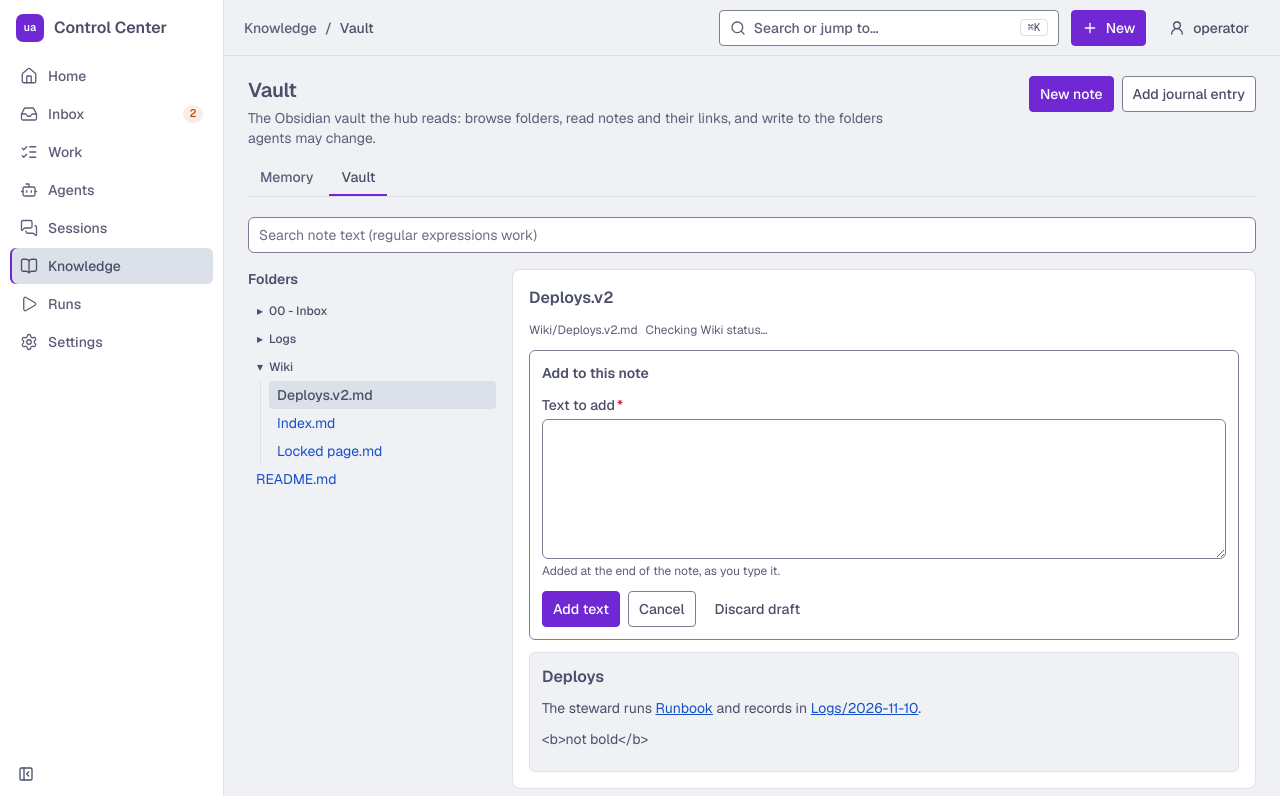
Test: knowledge: vault writes › appends to a note and explains a locked refusal
The width and height of the screenshot is (1280, 796).
In the text box labelled "Text to add*": [884, 489] box [542,419,1226,559], type "- new line"
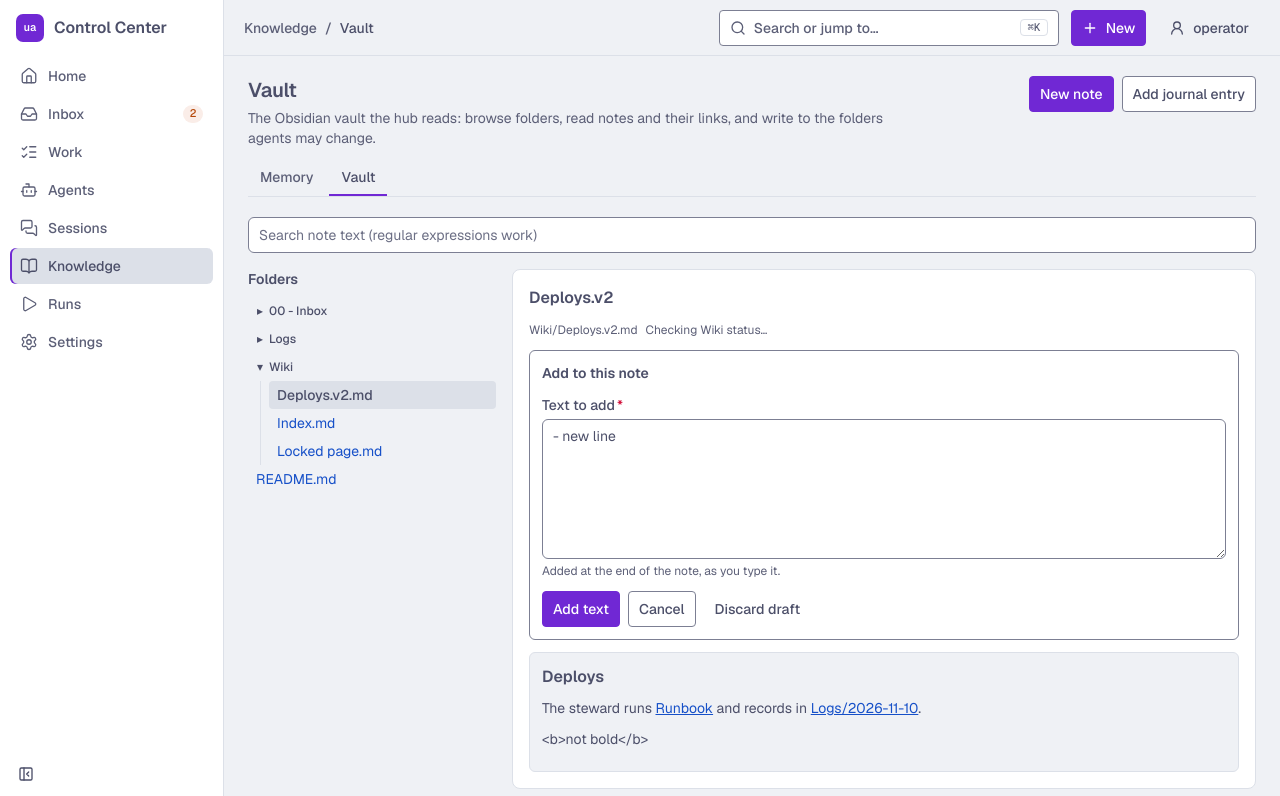
Click the button "Add text": [581, 609] box [542,591,620,627]
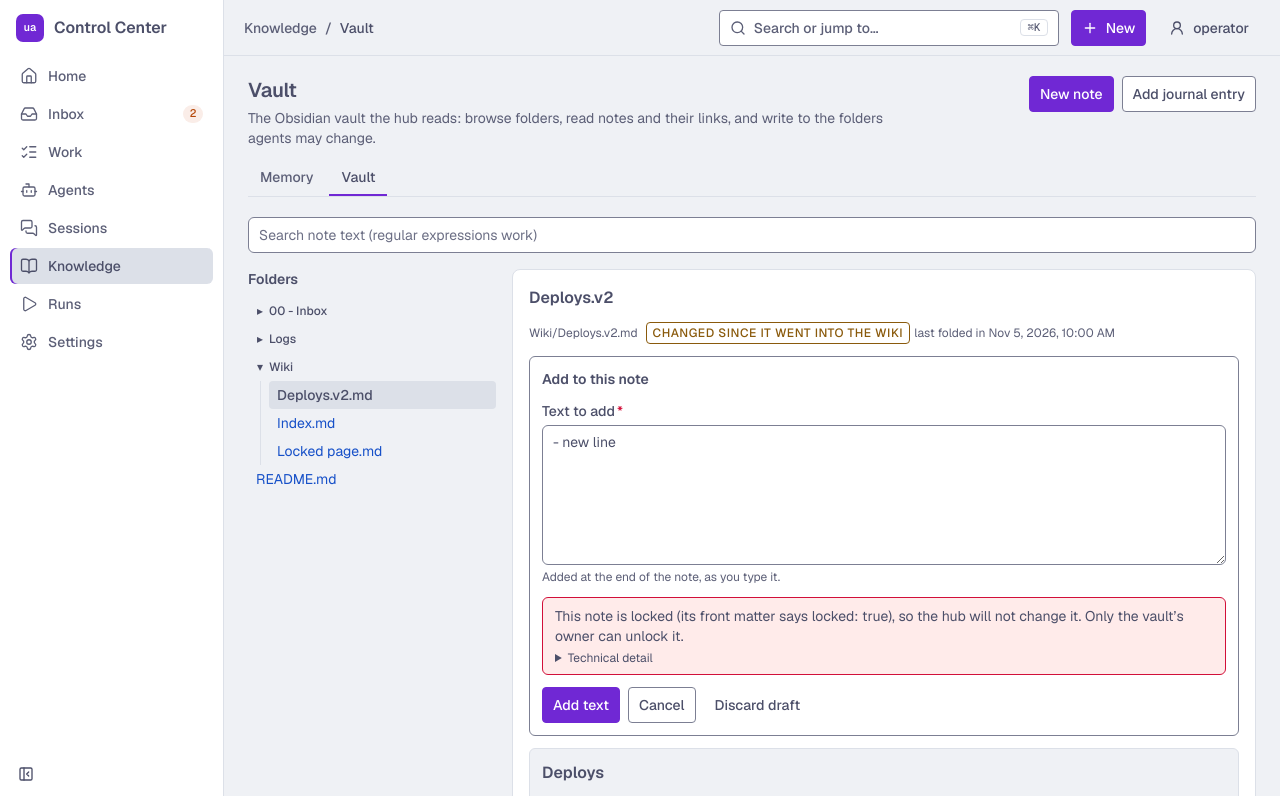
Check: the message shows "This note is locked", box [555,607,1184,645]
